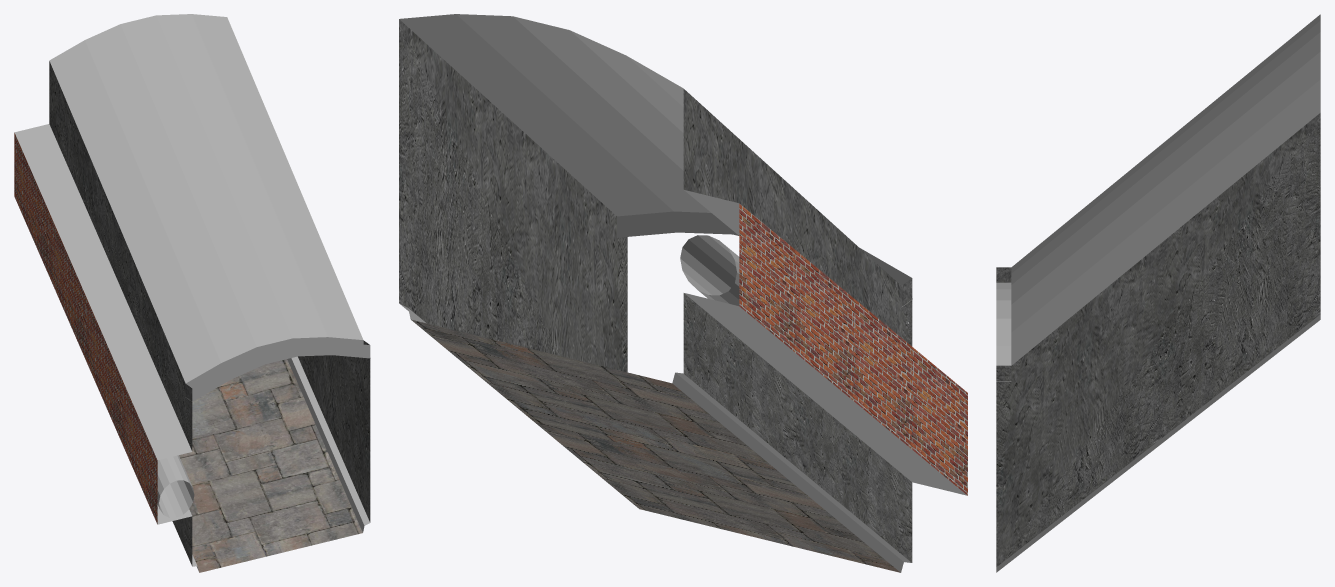
File: korob04.fbx
The picture shows the model from 3 angles, left to right: view 1: azimuth 30°, elevation 25°; view 2: azimuth 150°, elevation 25°; view 3: azimuth 270°, elevation 25°; orthographic projection. The views are drawn at different scales.
Visible parts, largest first — view 1: polySurface2; view 2: polySurface2; view 3: polySurface2.
Boxes of the visible parts, x1,y1,x2,y2 form: polySurface2: (14, 14, 370, 572); polySurface2: (399, 14, 967, 572); polySurface2: (996, 14, 1320, 572).
Size of the model in its own units: 11.97 by 23.02 by 13.93.
